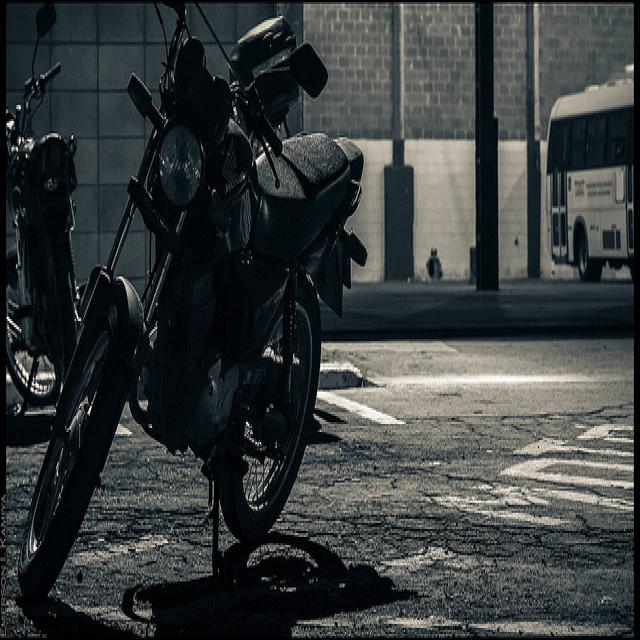Motorbike: (2, 21, 366, 612)
